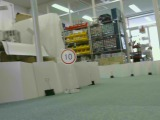speed_10: (60, 49, 76, 65)
